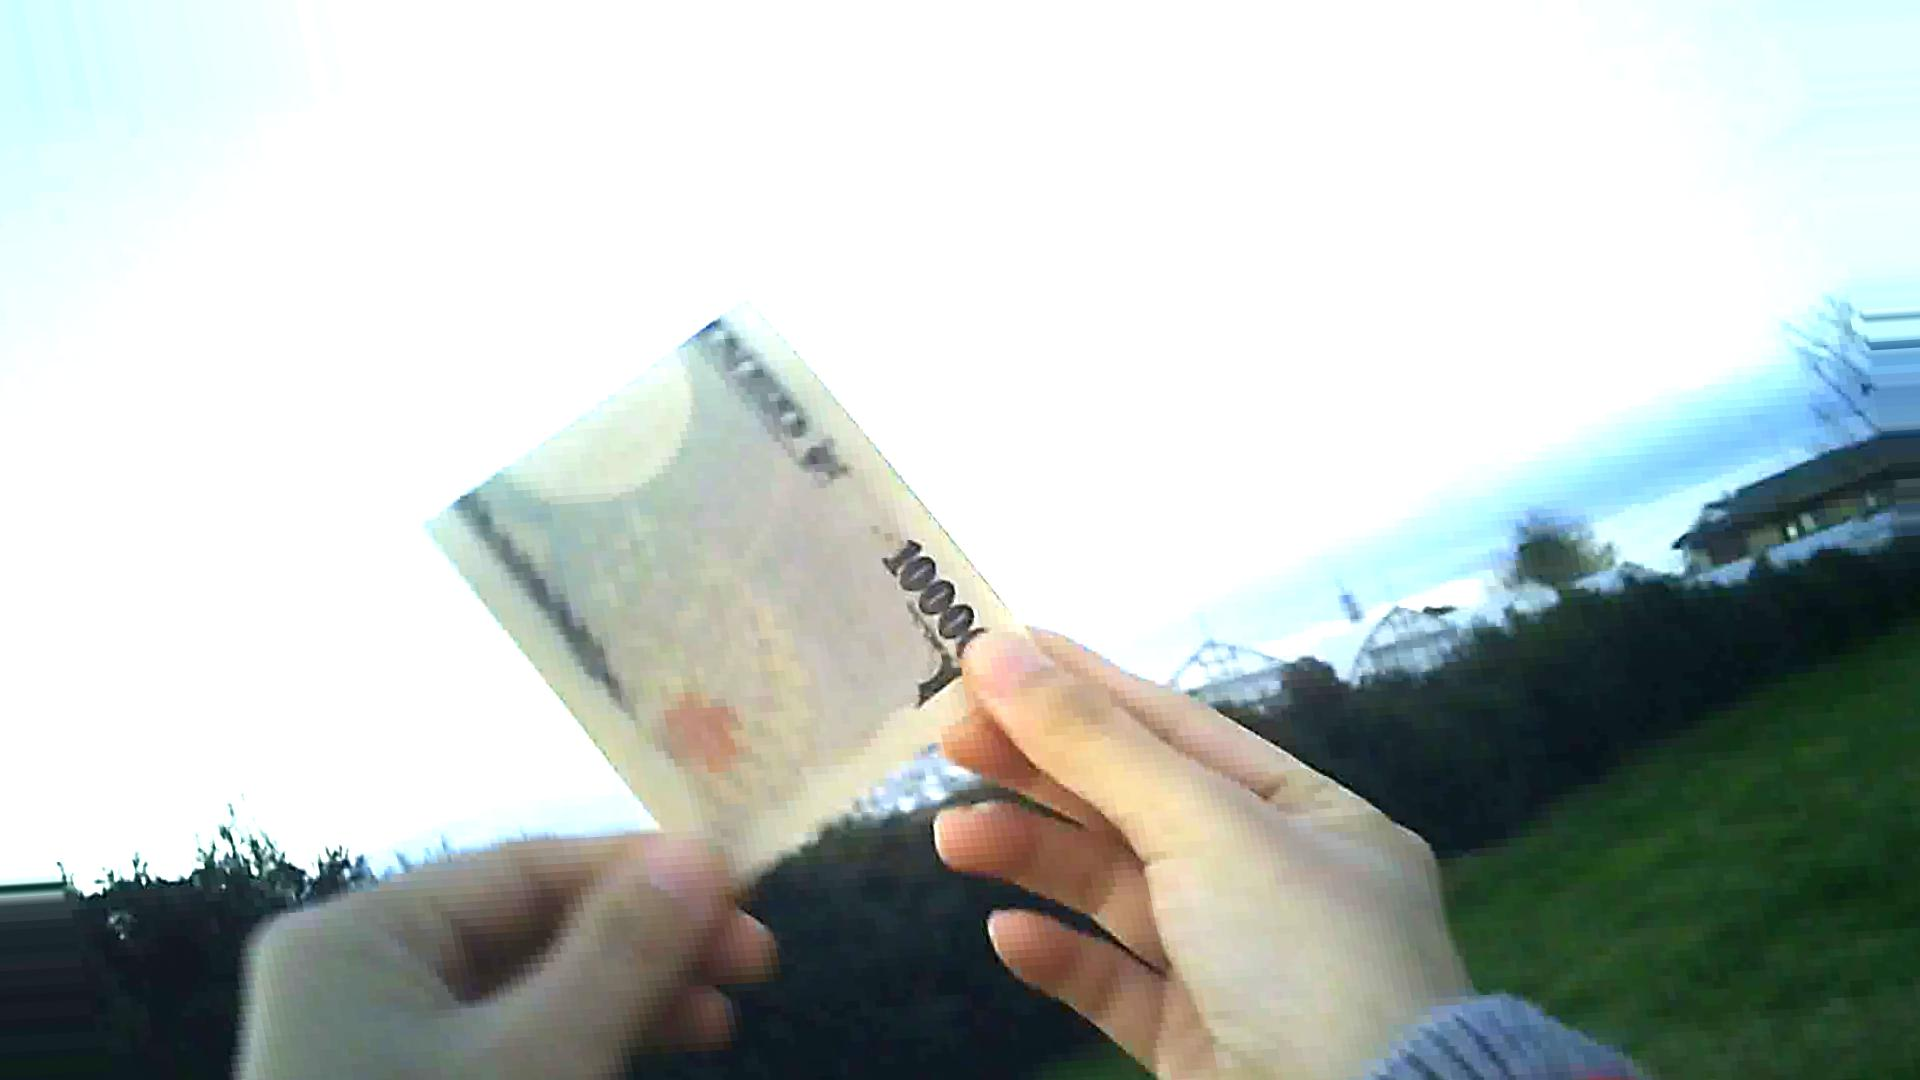10,000 Yen: (404, 284, 1068, 828)
